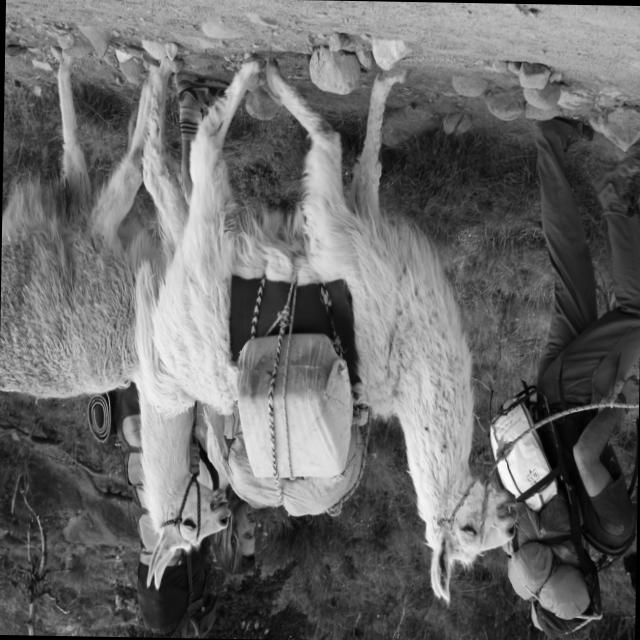alpaca: (135, 63, 524, 602), (0, 57, 238, 590)
